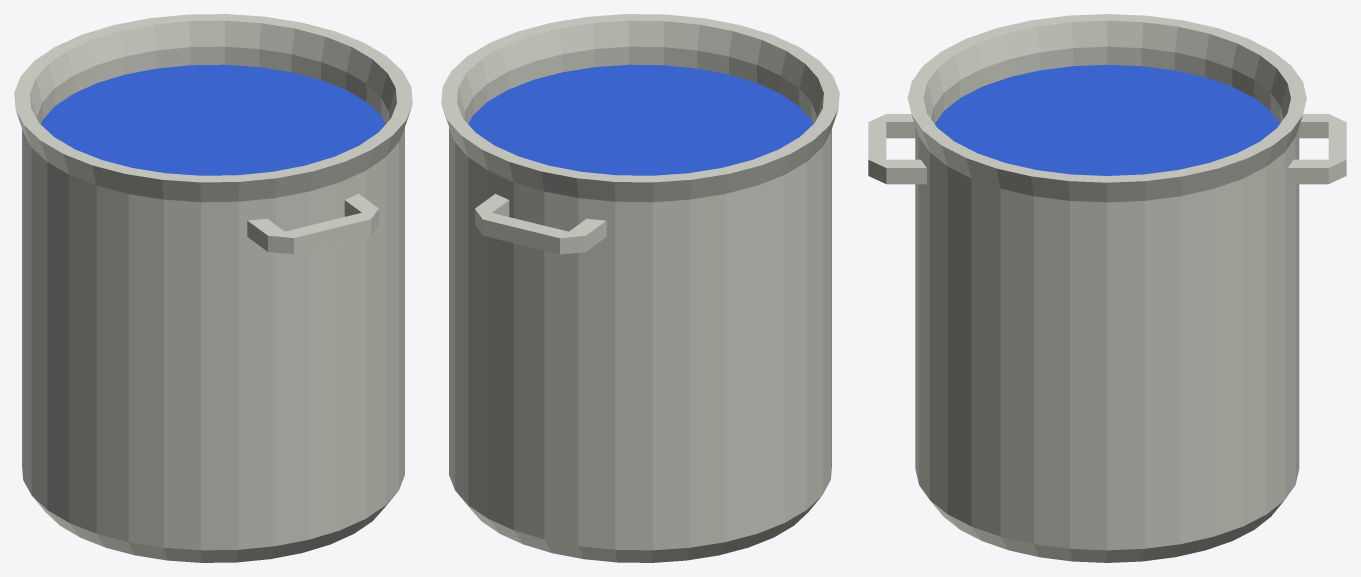
The model's file is pot.glb.
3 renders of one model, left to right at view 1: azimuth 30°, elevation 25°; view 2: azimuth 150°, elevation 25°; view 3: azimuth 270°, elevation 25°, orthographic.
Visible parts, largest first — view 1: Pot; view 2: Pot; view 3: Pot.
Boxes of the visible parts, x1=… form: Pot: x1=14, y1=14, x2=412, y2=562; Pot: x1=441, y1=14, x2=839, y2=562; Pot: x1=868, y1=14, x2=1346, y2=562.
Size of the model in its own units: 2.08 by 2.24 by 2.49.
